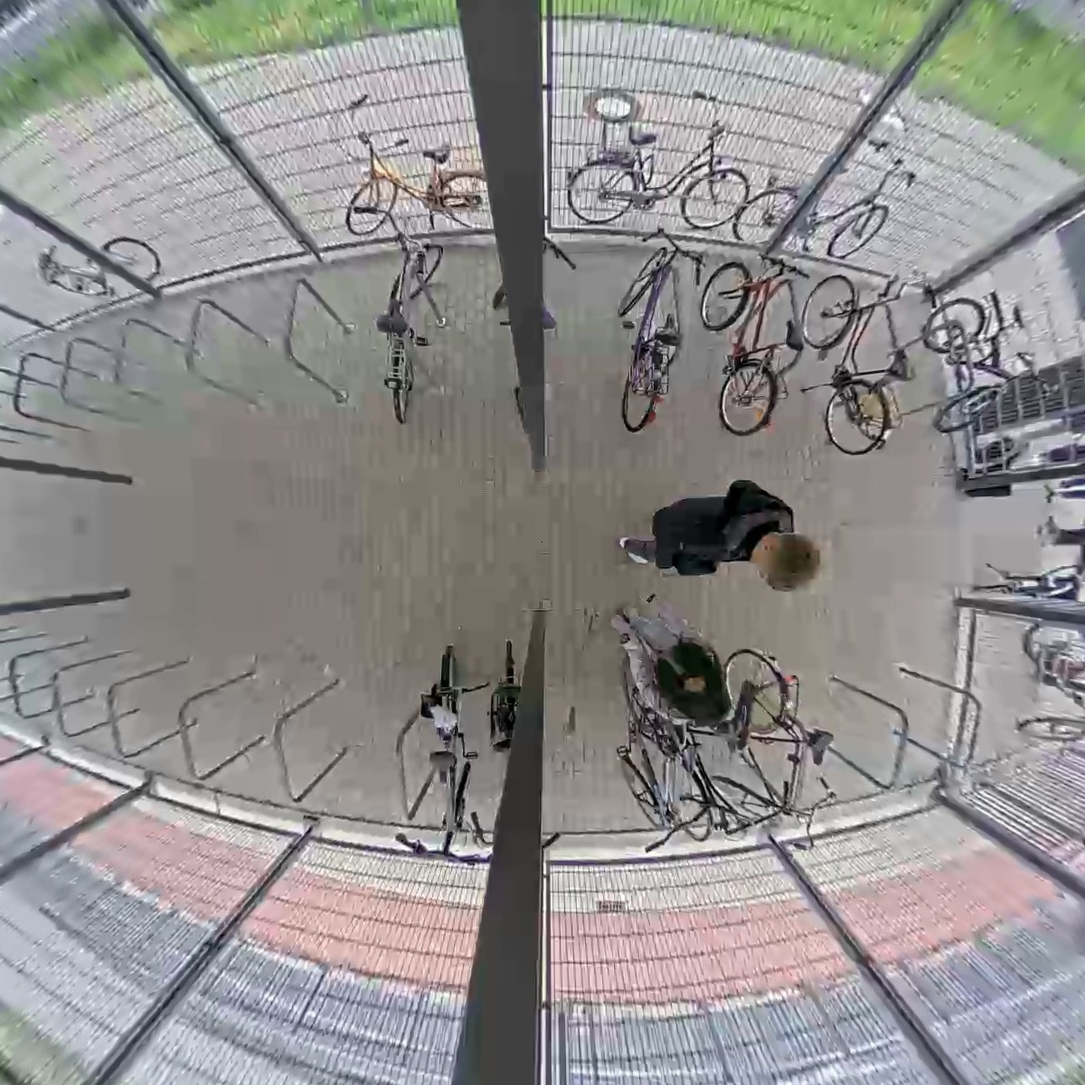bicylce: (801, 274, 898, 454), (704, 253, 793, 437), (717, 643, 804, 830), (610, 242, 689, 437), (370, 229, 443, 423), (921, 295, 1008, 437), (420, 644, 470, 874), (623, 681, 672, 853), (668, 708, 720, 852)
saddle: (375, 299, 407, 333), (807, 730, 835, 765), (429, 748, 455, 784), (655, 313, 682, 344), (890, 349, 915, 380), (678, 742, 703, 773), (782, 320, 806, 349), (1013, 304, 1022, 332)
